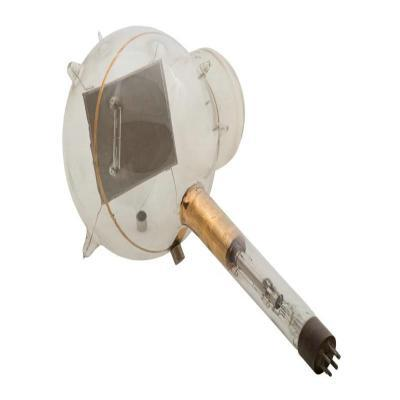technique: (62, 26, 340, 375)
